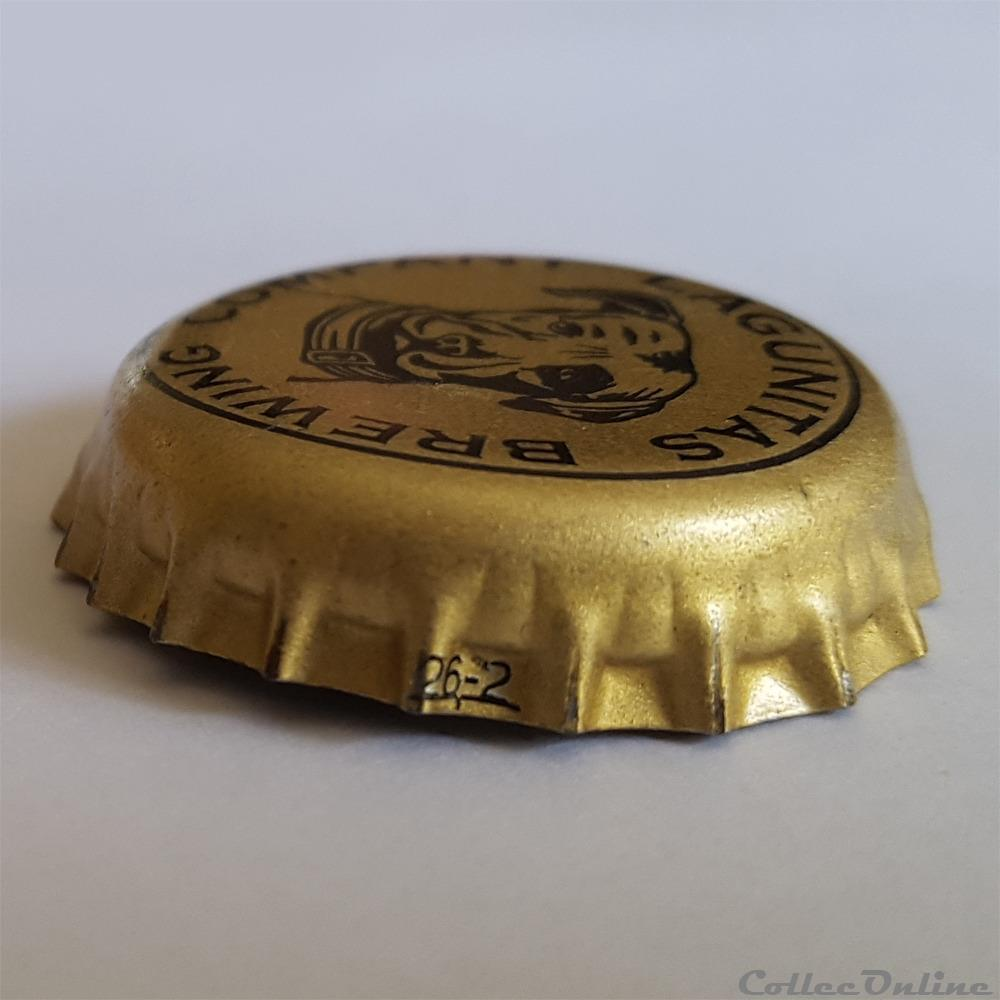metal: (53, 257, 941, 734)
